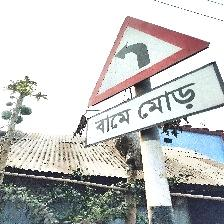Left-Turn: (84, 16, 222, 146)
